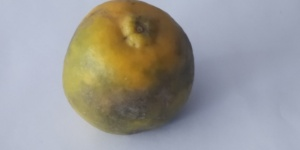BAD: (61, 1, 198, 135)
